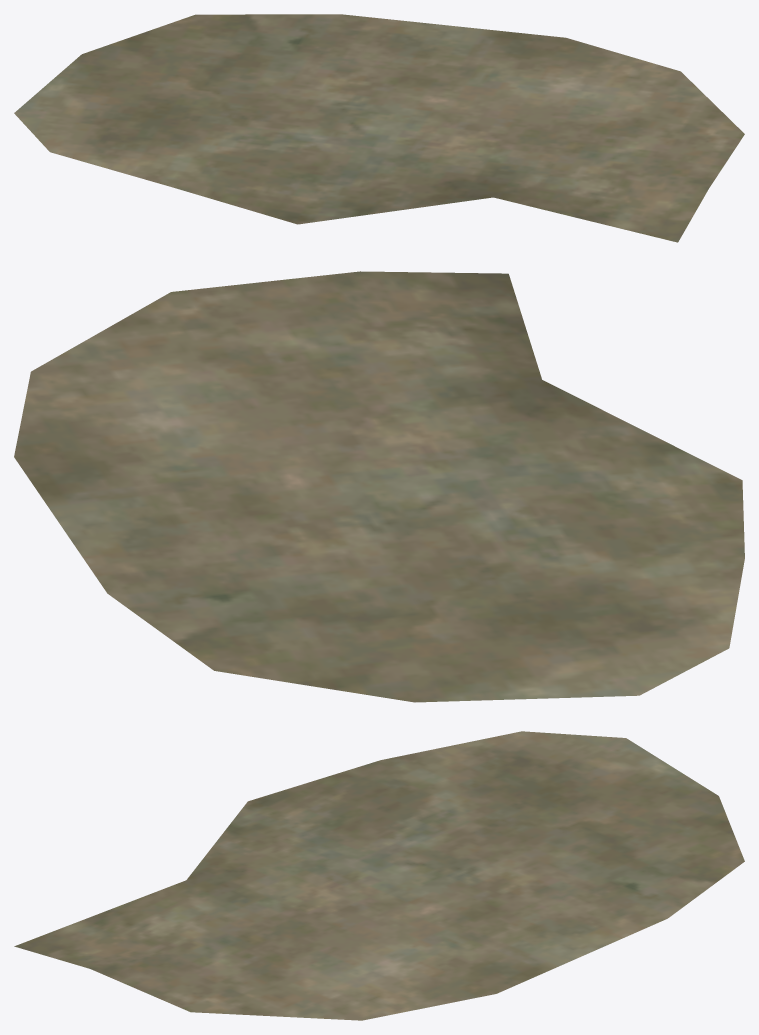
File: EKH_CAVERNS_PS_CA_OBJECT26.fbx
3 views of the same model, one above another, from view 1: azimuth 30°, elevation 25°; view 2: azimuth 150°, elevation 25°; view 3: azimuth 270°, elevation 25° (orthographic). The views are drawn at different scales.
Parts seen in each view (by area): view 1: EKH_CAVERNS_PS_CA_OBJECT26; view 2: EKH_CAVERNS_PS_CA_OBJECT26; view 3: EKH_CAVERNS_PS_CA_OBJECT26.
Boxes of the visible parts, <box> form: EKH_CAVERNS_PS_CA_OBJECT26: <box>14,14,744,242</box>; EKH_CAVERNS_PS_CA_OBJECT26: <box>14,271,744,702</box>; EKH_CAVERNS_PS_CA_OBJECT26: <box>14,731,744,1020</box>.
Size of the model in its own units: 26769 by 524 by 28577.
1 material, 1 textured.
